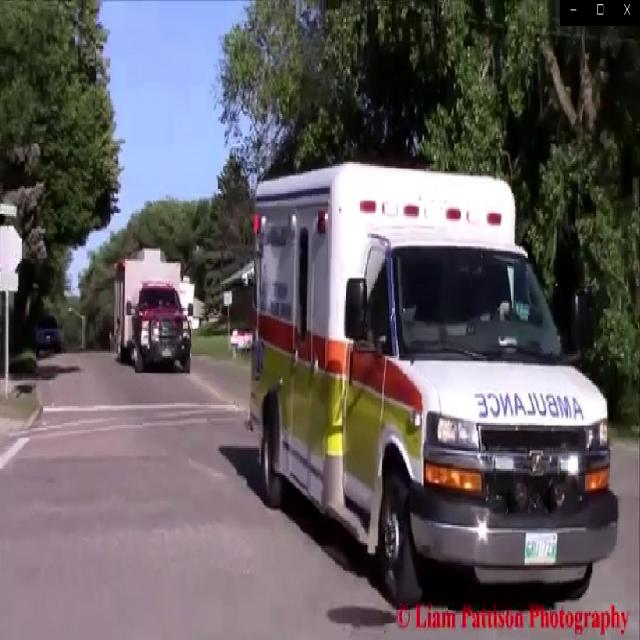emergency: (247, 172, 618, 600), (111, 257, 192, 377)
